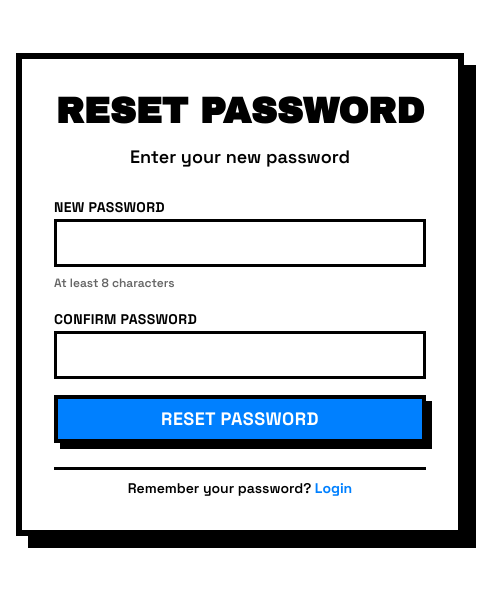
ResetPassword › API error shows error message
This screenshot has width=493, height=602.
Type "newpassword123" into the password field labelled "New Password".
click(240, 242); type("newpassword123")  # box x1=54 y1=218 x2=426 y2=266
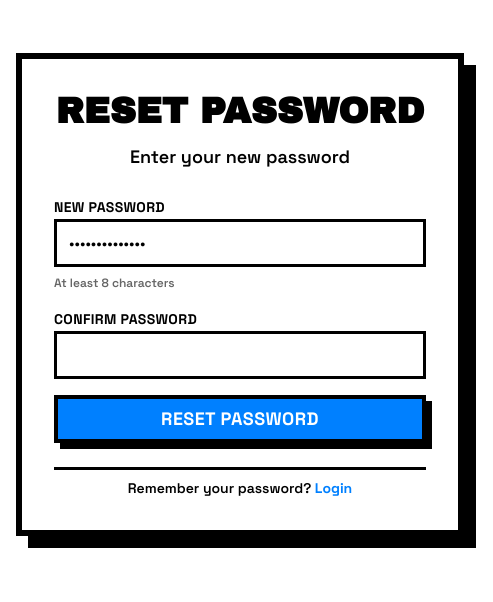
Type "newpassword123" into the password field labelled "Confirm Password".
click(240, 354); type("newpassword123")  # box x1=54 y1=330 x2=426 y2=378
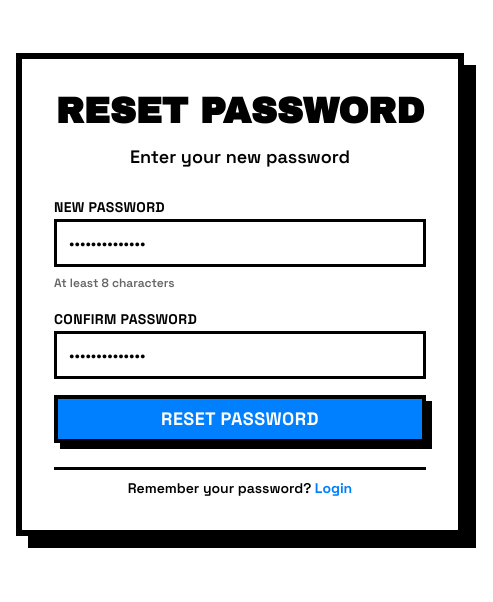
Click the button "Reset Password".
click(240, 418)  # box x1=54 y1=394 x2=426 y2=442
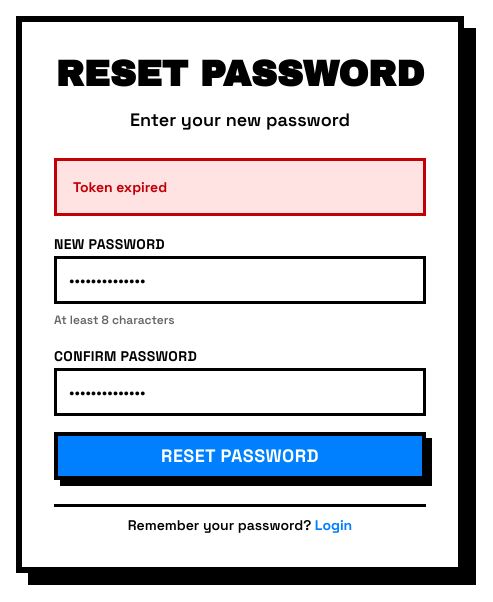
Check: the text "Token expired" is shown, box x1=54 y1=158 x2=426 y2=216
